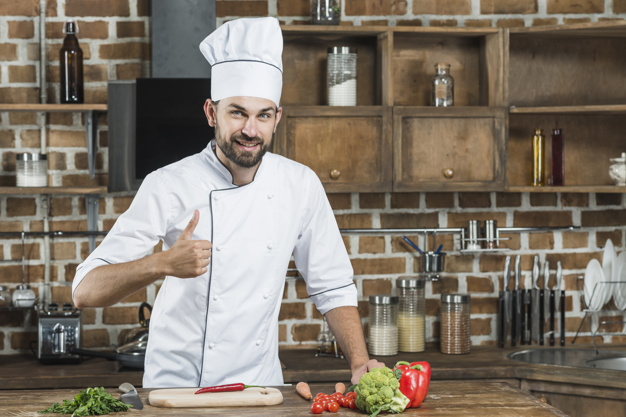thumbsup: (179, 209, 212, 279)
